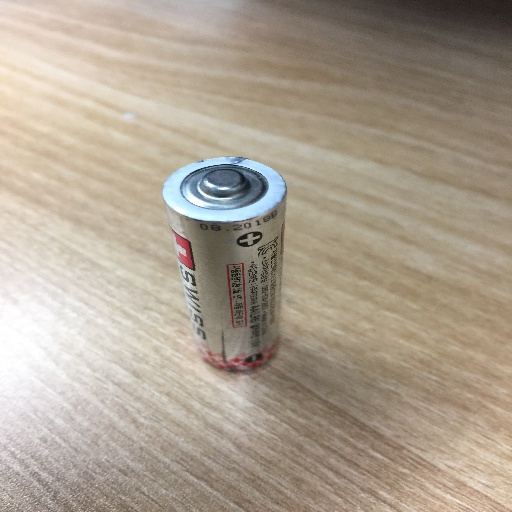Battery_0: (157, 140, 298, 379)
